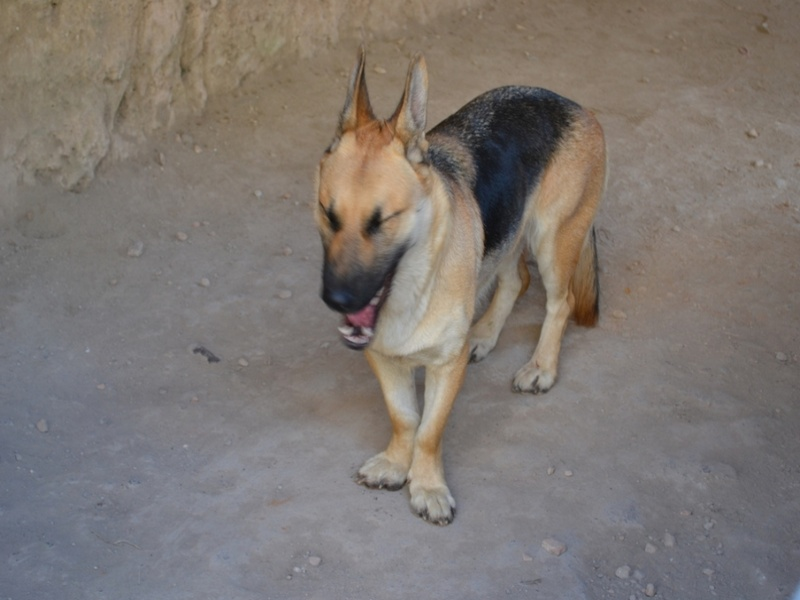dog: (304, 38, 618, 533)
